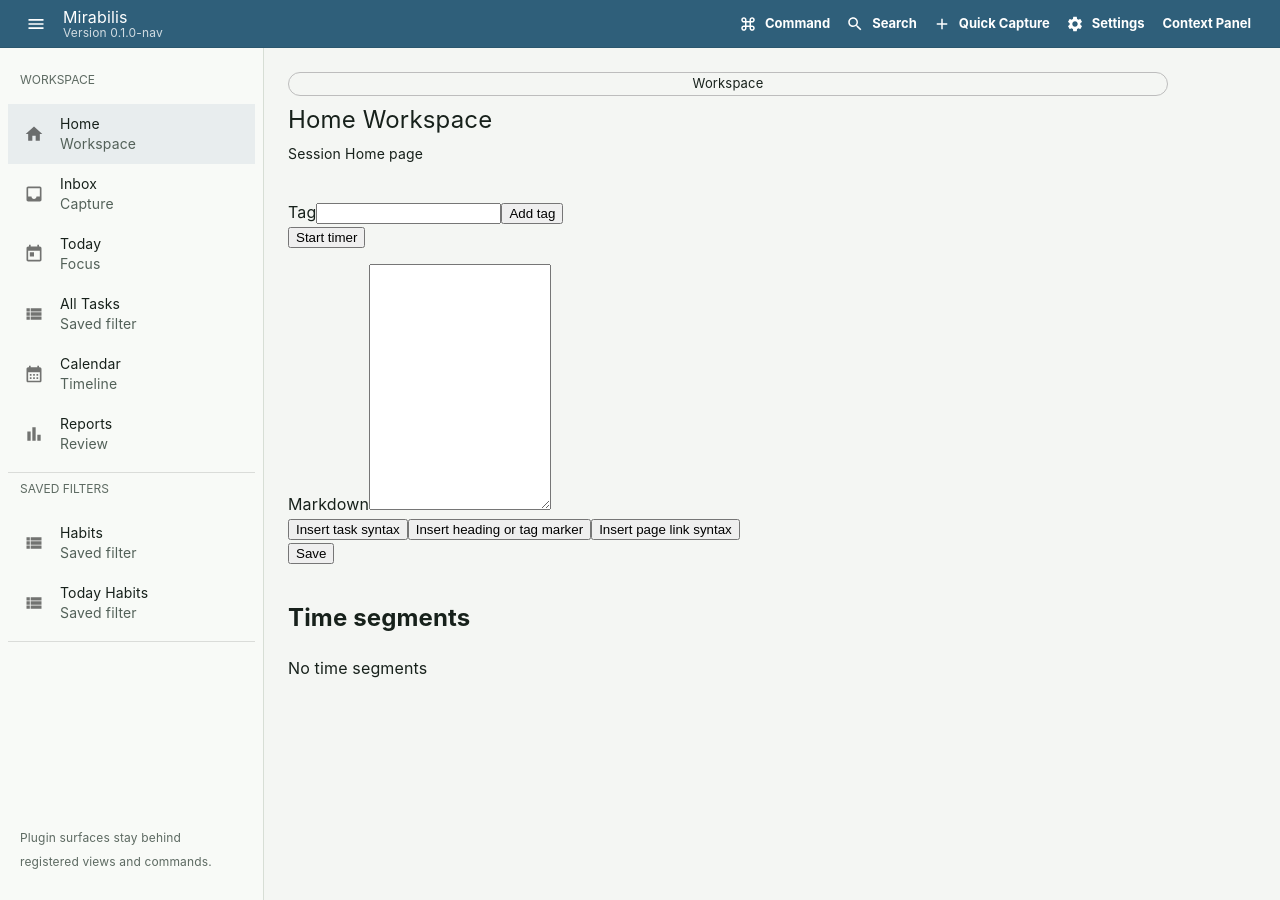
Test: TASK-035 MUI shell frame › changes the visible shell route through real user navigation
Expected: the heading "Mirabilis" is shown, [63,7,128,27]
What coordinates should you click on to do the following:
click the button "Today Focus"
I would click on:
 (63, 254)
Its box is [24,235,101,272].
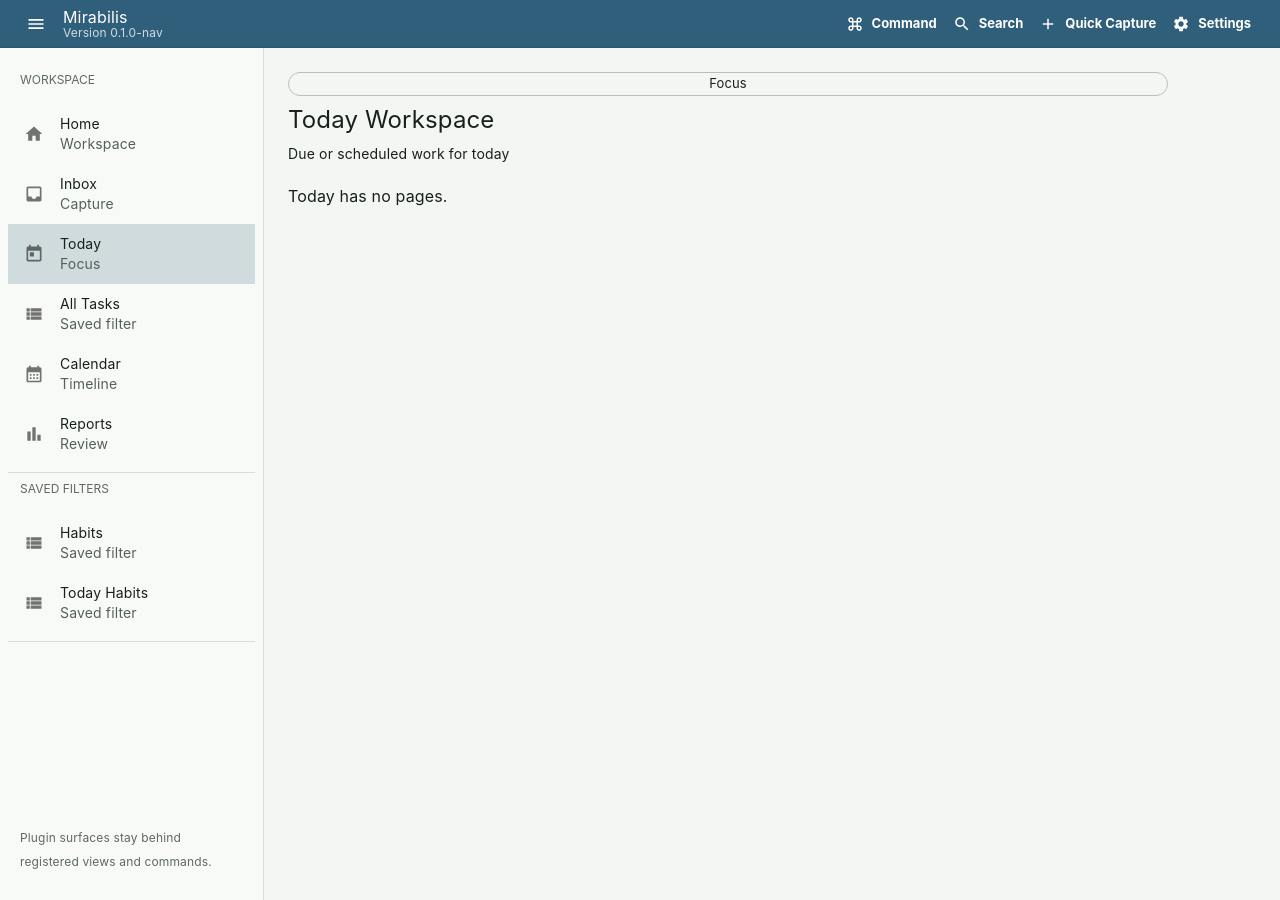
Result: the element "Today" is shown at [288,105,358,134]
What coordinates should you click on to do the following:
click the button "Inbox Capture"
I would click on:
 (69, 193)
Its box is [24,175,114,212].
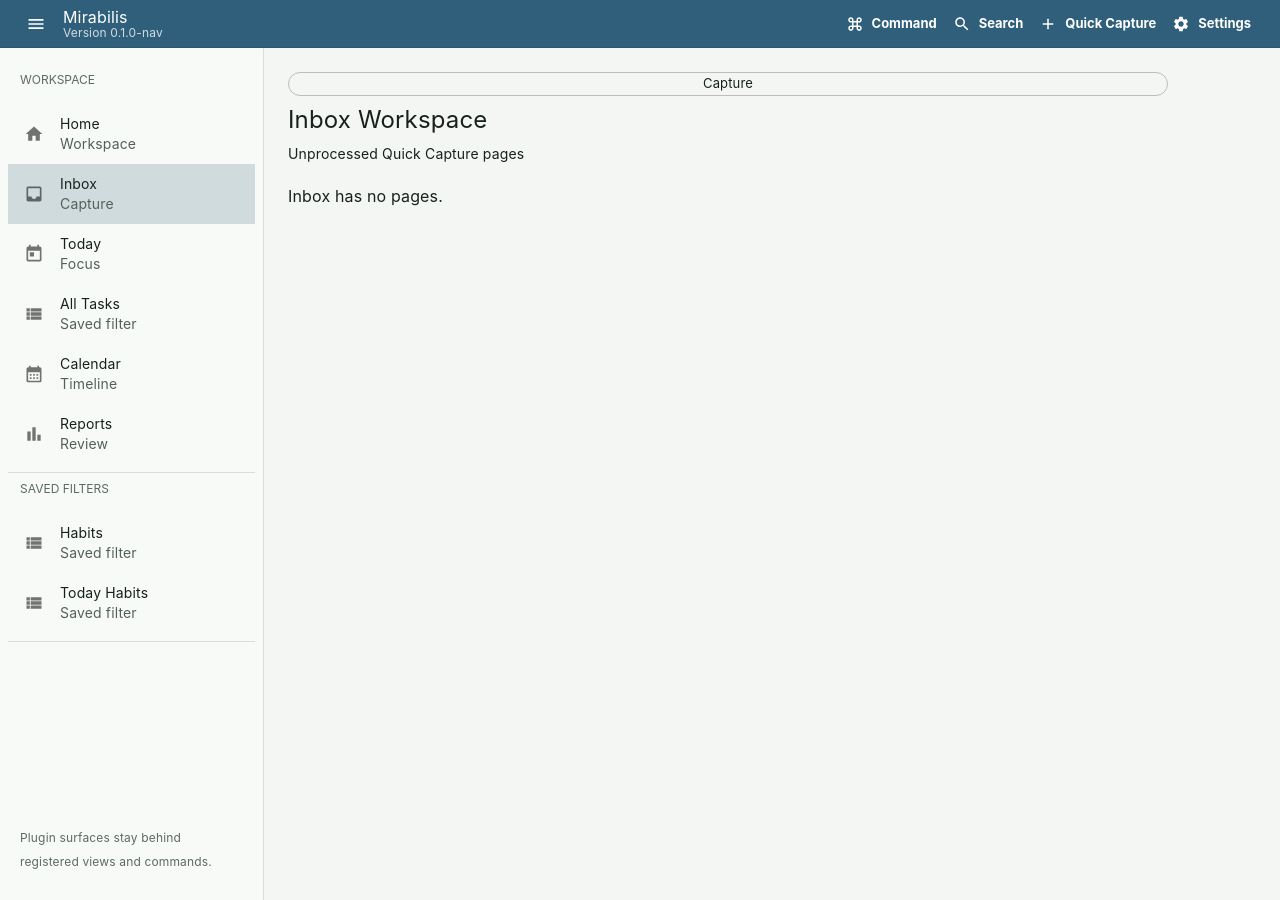
Result: the element "Inbox" is shown at [288,105,351,134]
